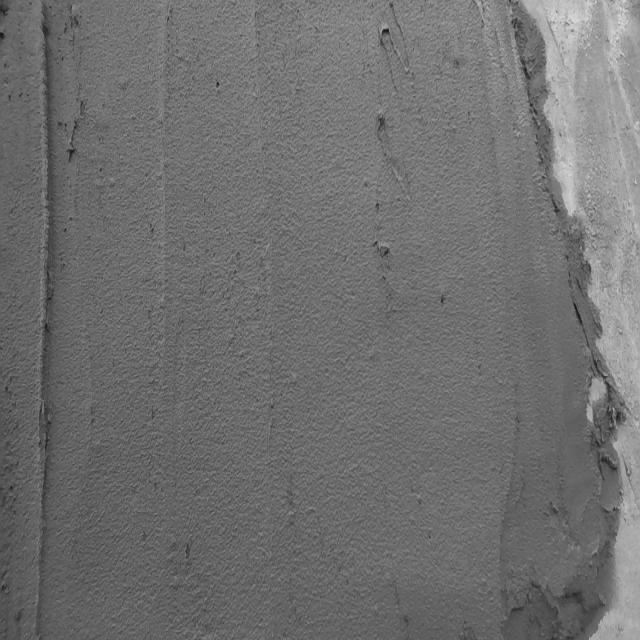trowels marks: (33, 2, 55, 630)
